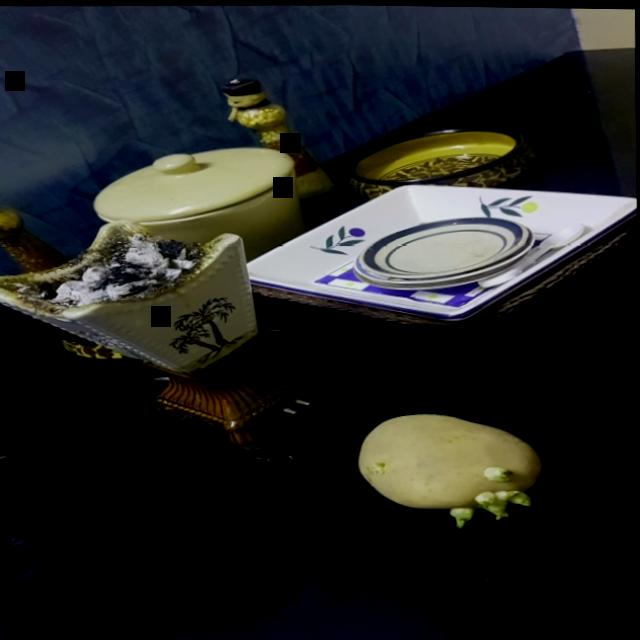potato: (358, 406, 546, 524)
